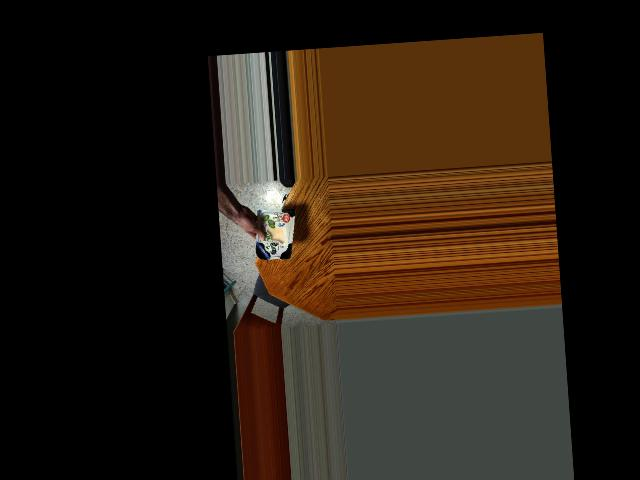cheese: (250, 201, 298, 268)
